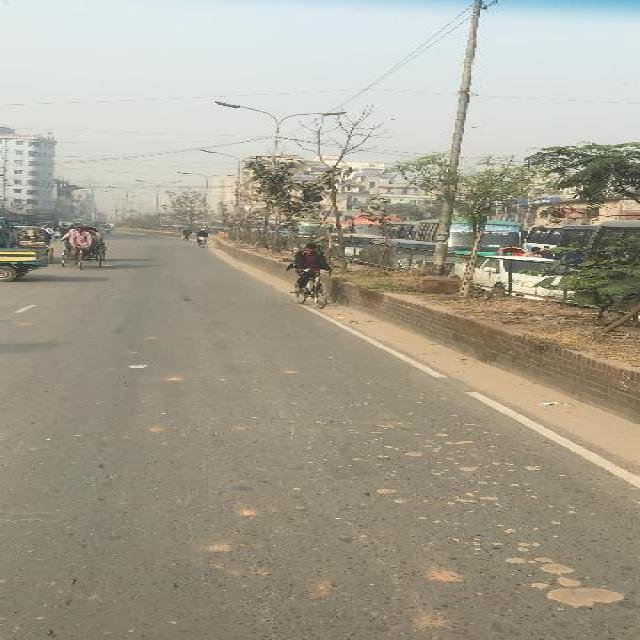bike: (294, 244, 335, 311), (198, 229, 209, 249), (105, 225, 110, 236)
vehicle: (448, 256, 578, 300), (580, 222, 638, 309), (415, 219, 522, 252), (357, 240, 466, 272), (555, 226, 599, 269), (1, 246, 49, 284), (62, 229, 104, 270), (329, 235, 388, 260), (17, 226, 49, 249), (524, 226, 559, 247), (380, 222, 419, 240), (295, 223, 333, 240), (496, 245, 530, 257), (73, 223, 82, 228)
